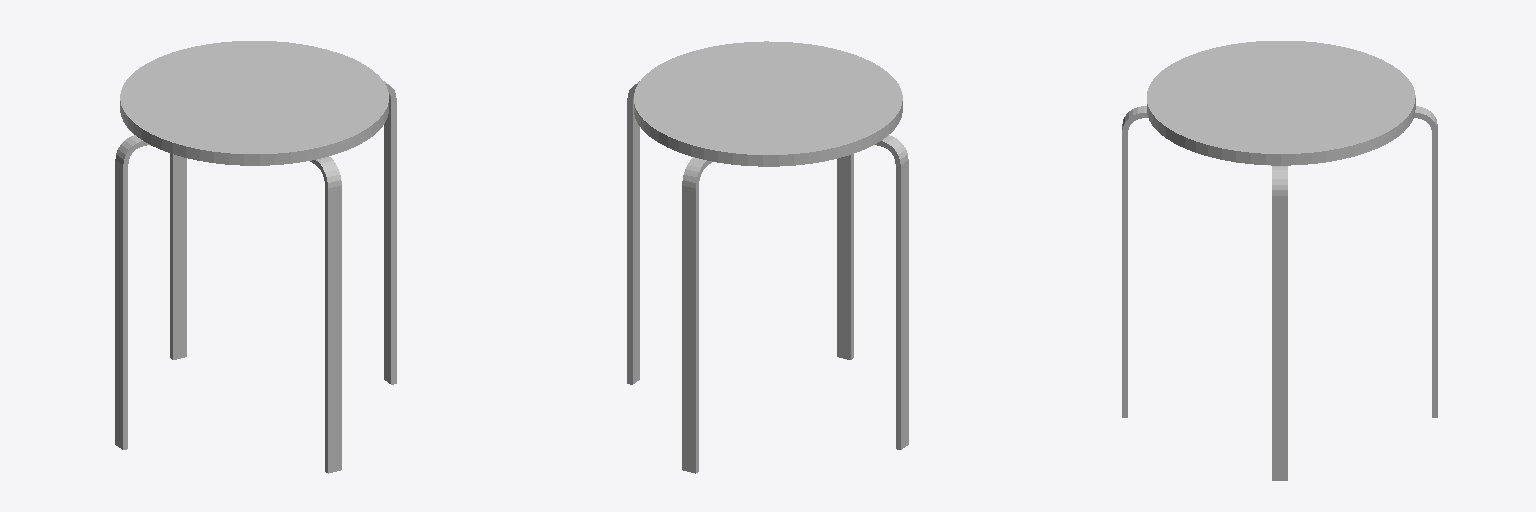
Rendered from stool.obj.
3 renders of one model, left to right at view 1: azimuth 30°, elevation 25°; view 2: azimuth 150°, elevation 25°; view 3: azimuth 270°, elevation 25°, orthographic.
Visible parts, largest first — view 1: Frosta_Stool2; view 2: Frosta_Stool2; view 3: Frosta_Stool2.
Boxes of the visible parts, box(x1,y1,x2,y2) form: Frosta_Stool2: box(115, 41, 396, 473); Frosta_Stool2: box(627, 41, 908, 473); Frosta_Stool2: box(1122, 41, 1437, 480).
Bounding box in the file's own units: 0.7852 × 0.8687 × 0.7852.